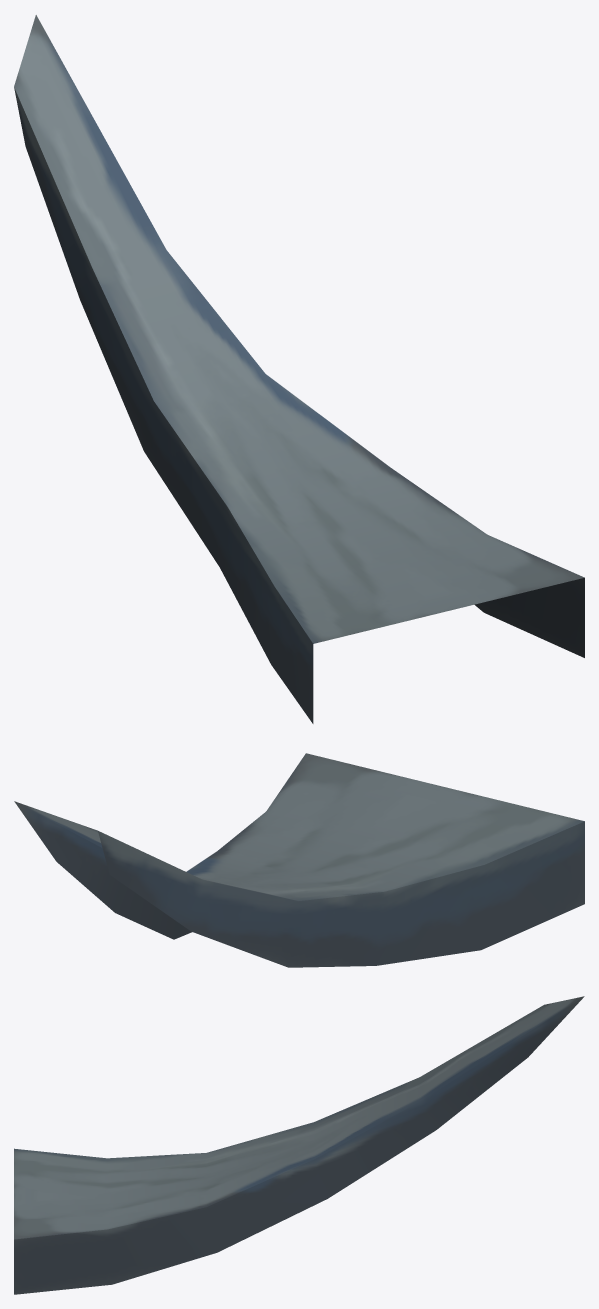
File: yewai_jianshi_02.FBX
3 renders of one model, top to bottom at view 1: azimuth 30°, elevation 25°; view 2: azimuth 150°, elevation 25°; view 3: azimuth 270°, elevation 25°, orthographic. The views are drawn at different scales.
Parts seen in each view (by area): view 1: yewai_jianshi_02; view 2: yewai_jianshi_02; view 3: yewai_jianshi_02.
Boxes of the visible parts, box(x1,y1,x2,y2) form: yewai_jianshi_02: box(14, 15, 584, 723); yewai_jianshi_02: box(14, 753, 584, 967); yewai_jianshi_02: box(14, 996, 584, 1294).
Bounding box in the file's own units: 92.88 × 121 × 247.
